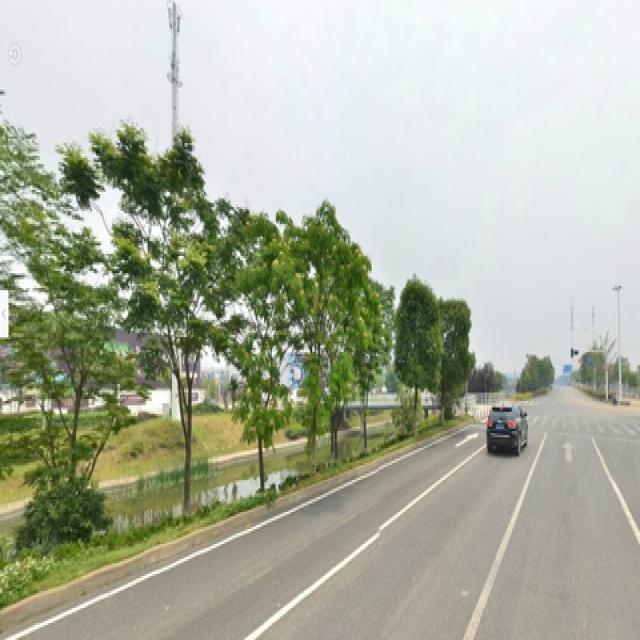albi: (101, 136, 219, 486), (224, 213, 289, 493), (300, 213, 339, 463)
